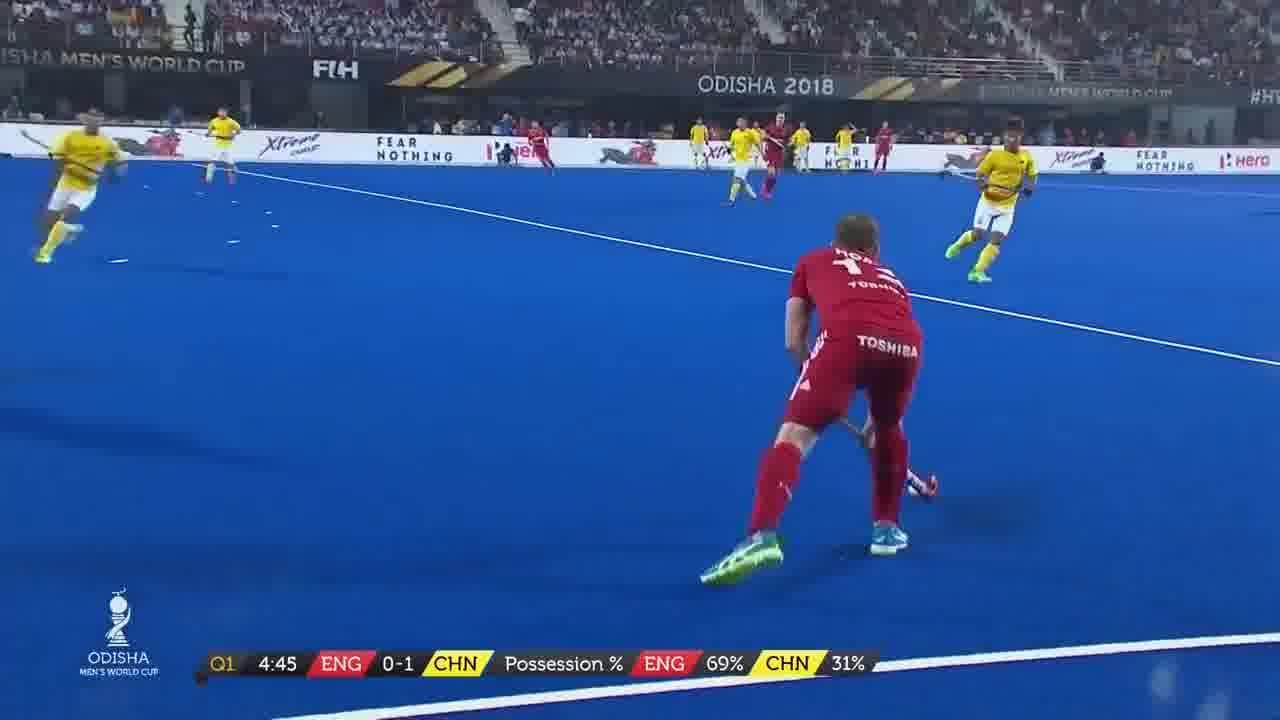ball: (874, 530, 910, 560)
